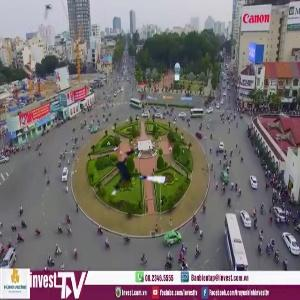drone: (101, 135, 170, 204)
